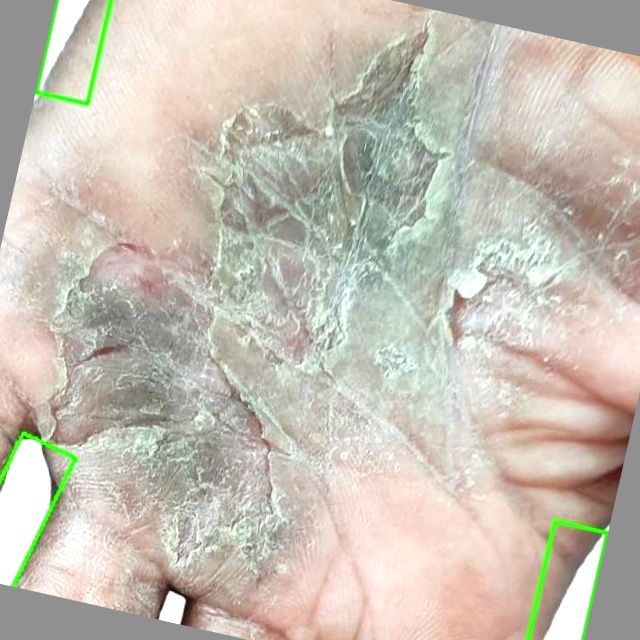Contact Dermatitis: (0, 433, 74, 586), (528, 520, 607, 639)
